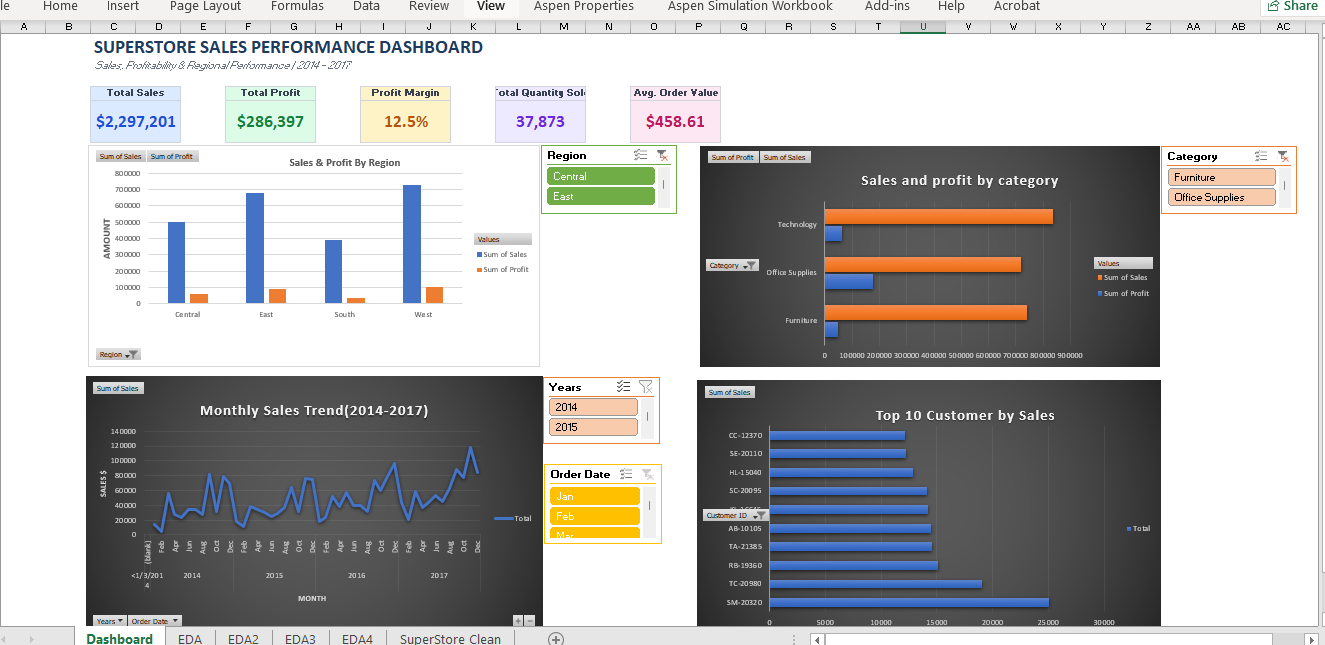

What the dashboard file says about the page in this screenshot:
{"tool":"powerbi","page":{"name":"Page 1","canvas":[1920,1080],"ordinal":0},"visuals":[{"type":"cardVisual","fields":{"Data":["tblSuperstore.Total Sales"]},"box":[0,0,167,183],"z":0},{"type":"cardVisual","fields":{"Data":["tblSuperstore.Total Profit"]},"box":[167,0,184,183],"z":1000},{"type":"cardVisual","fields":{"Data":["tblSuperstore.Total Quantity"]},"box":[351,0,185,183],"z":2000},{"type":"cardVisual","fields":{"Data":["tblSuperstore.Overall Profit Margin"]},"box":[536,0,182,183],"z":3000},{"type":"cardVisual","fields":{"Data":["tblSuperstore.Average Order Value"]},"box":[716,0,195,183],"z":4000},{"type":"lineChart","fields":{"Category":["DateTable.Date.Variation.Date Hierarchy.Month"],"Y":["tblSuperstore.Total Sales"]},"box":[0,183,332,300],"z":5000},{"type":"clusteredColumnChart","fields":{"Category":["tblSuperstore.Region"],"Y":["tblSuperstore.Total Sales","tblSuperstore.Total Profit"]},"box":[332,183,300,300],"z":6000},{"type":"clusteredBarChart","fields":{"Category":["tblSuperstore.Category"],"Y":["tblSuperstore.Total Sales"]},"box":[632,183,300,300],"z":7000},{"type":"clusteredBarChart","fields":{"Category":["tblSuperstore.Product Name"],"Y":["tblSuperstore.Total Sales"]},"box":[932,183,300,300],"z":8000}]}

Visuals, with their boxes on the page's 1920x1080 design canvas (x1, y1, x2, y2). These are canvas units, not pixel positions in the 1325x645 screenshot, which may show the page scaled, cropped or inside an application window:
cardVisual - tblSuperstore.Total Sales: [x1=0, y1=0, x2=167, y2=183]
cardVisual - tblSuperstore.Total Profit: [x1=167, y1=0, x2=351, y2=183]
cardVisual - tblSuperstore.Total Quantity: [x1=351, y1=0, x2=536, y2=183]
cardVisual - tblSuperstore.Overall Profit Margin: [x1=536, y1=0, x2=718, y2=183]
cardVisual - tblSuperstore.Average Order Value: [x1=716, y1=0, x2=911, y2=183]
lineChart - DateTable.Date.Variation.Date Hierarchy.Month x tblSuperstore.Total Sales: [x1=0, y1=183, x2=332, y2=483]
clusteredColumnChart - tblSuperstore.Region x tblSuperstore.Total Sales: [x1=332, y1=183, x2=632, y2=483]
clusteredBarChart - tblSuperstore.Category x tblSuperstore.Total Sales: [x1=632, y1=183, x2=932, y2=483]
clusteredBarChart - tblSuperstore.Product Name x tblSuperstore.Total Sales: [x1=932, y1=183, x2=1232, y2=483]
